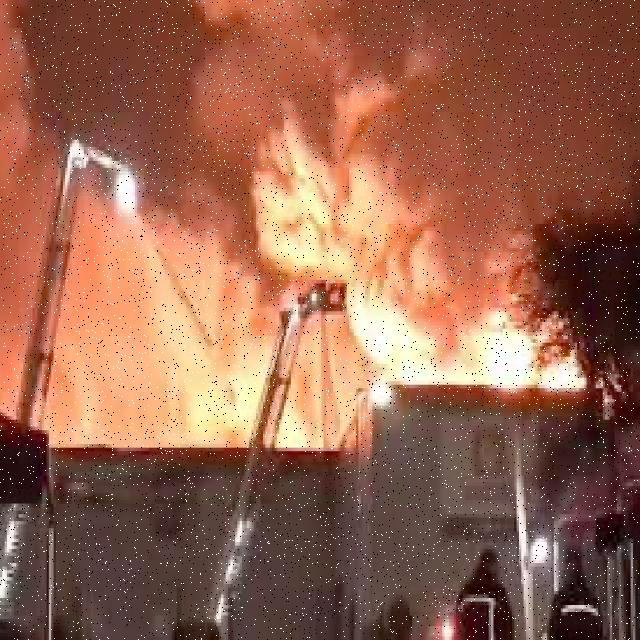fire: (352, 257, 568, 409)
